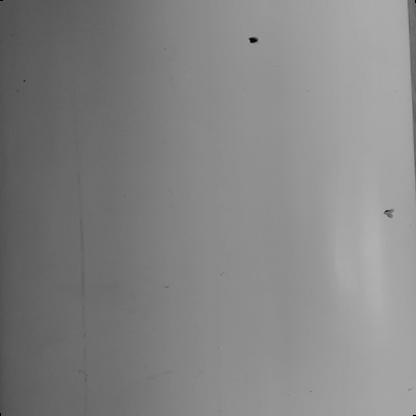kongdong: (371, 193, 413, 235), (244, 28, 274, 47)
